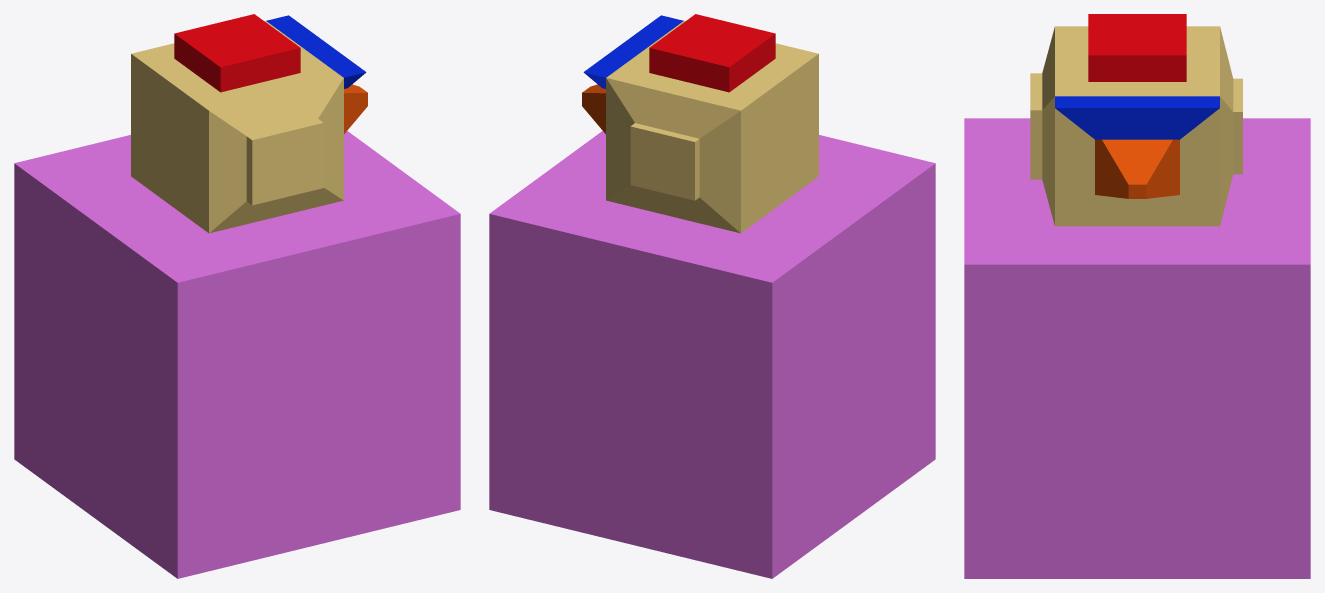
The model's file is RoboBox.fbx.
3 views of the same model, side by side, from view 1: azimuth 30°, elevation 25°; view 2: azimuth 150°, elevation 25°; view 3: azimuth 270°, elevation 25° (orthographic). The views are drawn at different scales.
Parts seen in each view (by area): view 1: Cube; view 2: Cube; view 3: Cube.
Boxes of the visible parts, bbox=[...] form: Cube: bbox=[14, 14, 460, 578]; Cube: bbox=[489, 14, 935, 578]; Cube: bbox=[964, 14, 1310, 578].
Size of the model in its own units: 200 by 300 by 200.
